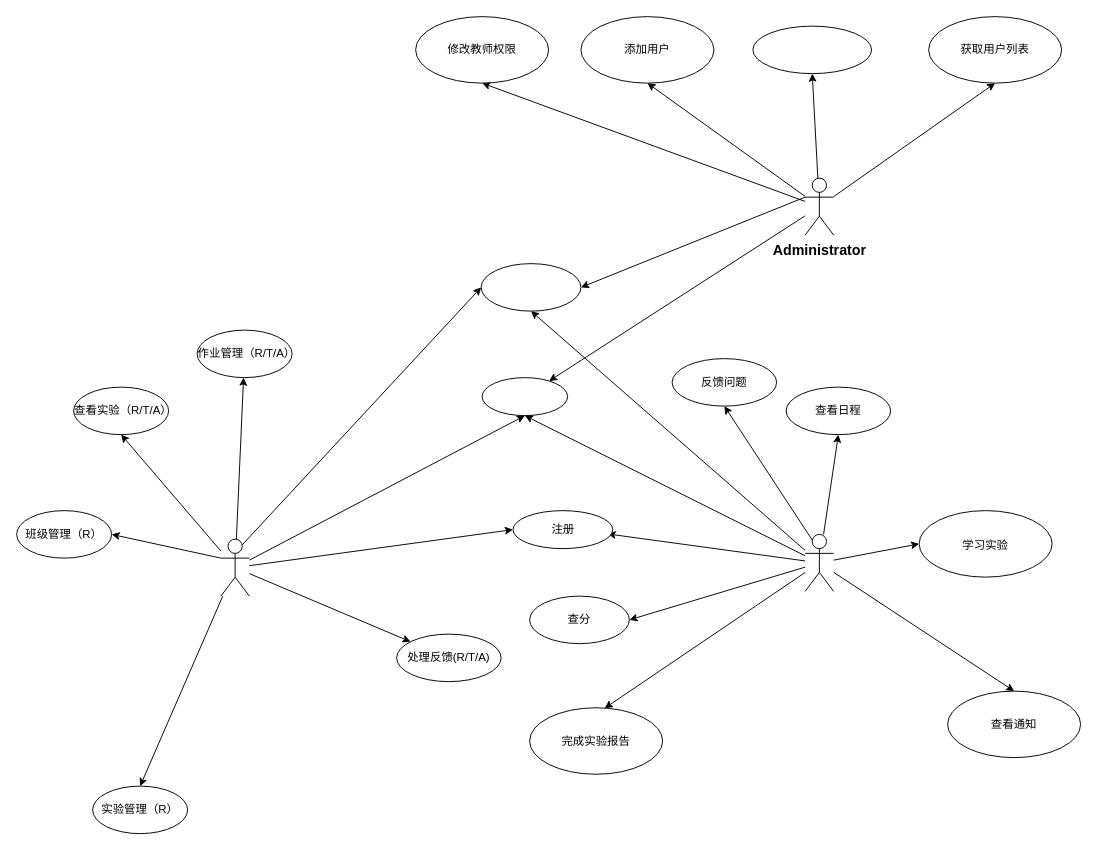
This 1097x850 diagram has some shape labels left out. Here are the shapes that lost their labels. From the top down, the box of each, then its label:
(752, 25, 872, 74): 删除用户
(480, 263, 581, 311): 重置密码
(481, 377, 568, 416): 登录
(220, 538, 249, 596): Teacher
(804, 533, 834, 591): Student
